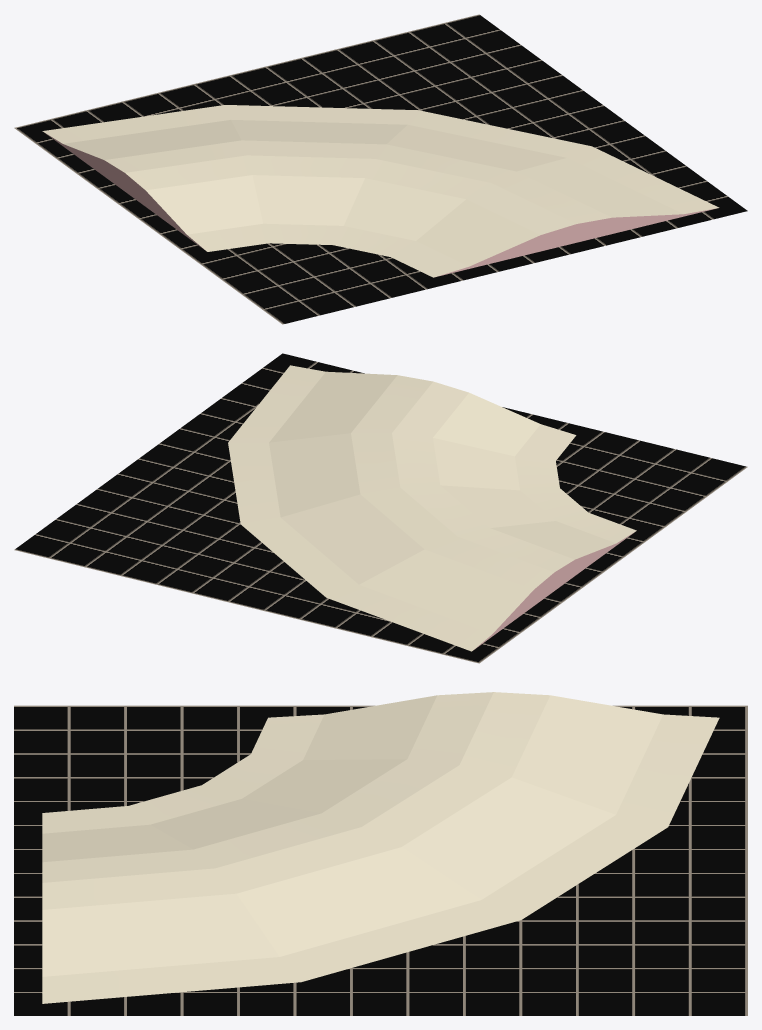
File: Terrain_Sand_Incline_Curve_Both_12x12.glb
The picture shows the model from 3 angles, top to bottom: view 1: azimuth 30°, elevation 25°; view 2: azimuth 150°, elevation 25°; view 3: azimuth 270°, elevation 25°; orthographic projection. The views are drawn at different scales.
Visible parts, largest first — view 1: Terrain_Sand_Incline_Curve_Both_12x12, Floor; view 2: Terrain_Sand_Incline_Curve_Both_12x12, Floor; view 3: Terrain_Sand_Incline_Curve_Both_12x12, Floor.
Part boxes in pixels (x1,y1,x2,y2): Terrain_Sand_Incline_Curve_Both_12x12: [42, 105, 719, 277]; Floor: [14, 14, 747, 324]; Terrain_Sand_Incline_Curve_Both_12x12: [228, 365, 636, 651]; Floor: [14, 353, 747, 663]; Terrain_Sand_Incline_Curve_Both_12x12: [42, 692, 719, 1003]; Floor: [14, 705, 747, 1015].
Size of the model in its own units: 1300 by 50 by 1300.
Materials: 4 (1 with a texture image).
